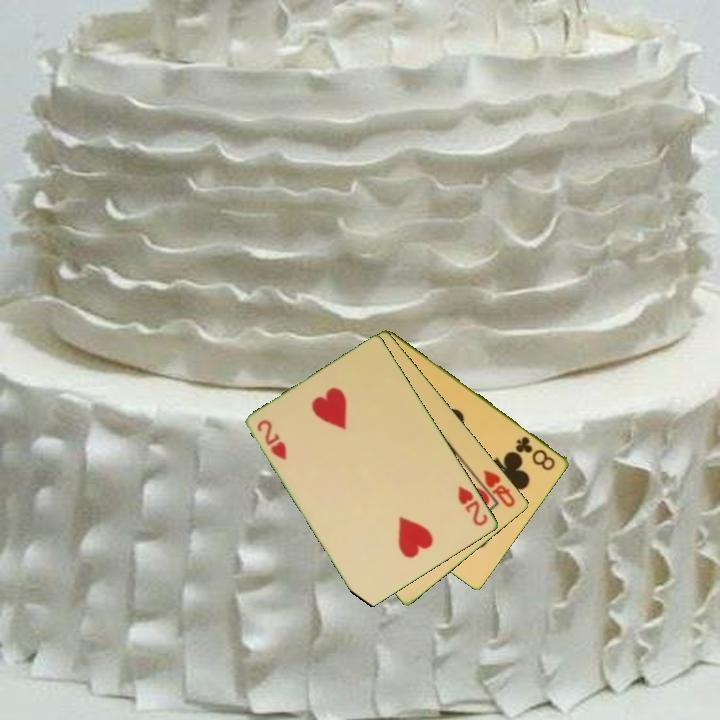2h: (254, 416, 290, 464), (455, 482, 491, 529)
8c: (512, 432, 559, 474)
Qh: (480, 466, 519, 510)
